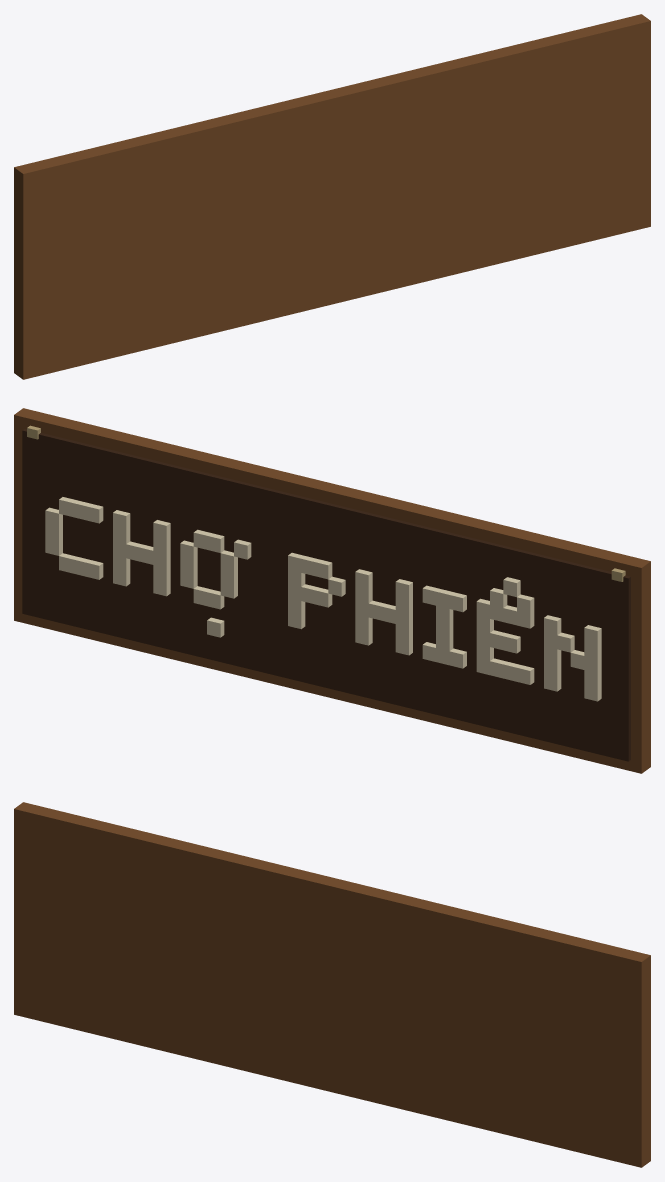
Rendered from tt-sign-cho-phien.glb.
The picture shows the model from 3 angles, top to bottom: view 1: azimuth 30°, elevation 25°; view 2: azimuth 150°, elevation 25°; view 3: azimuth 330°, elevation 25°; orthographic projection.
Visible parts, largest first — view 1: box-prop; view 2: box-prop; view 3: box-prop.
Boxes of the visible parts, box(x1,y1,x2,y2) form: box-prop: box(14, 14, 650, 379); box-prop: box(14, 408, 650, 773); box-prop: box(14, 802, 650, 1167).
Size of the model in its own units: 4.66 by 1.46 by 0.2.
